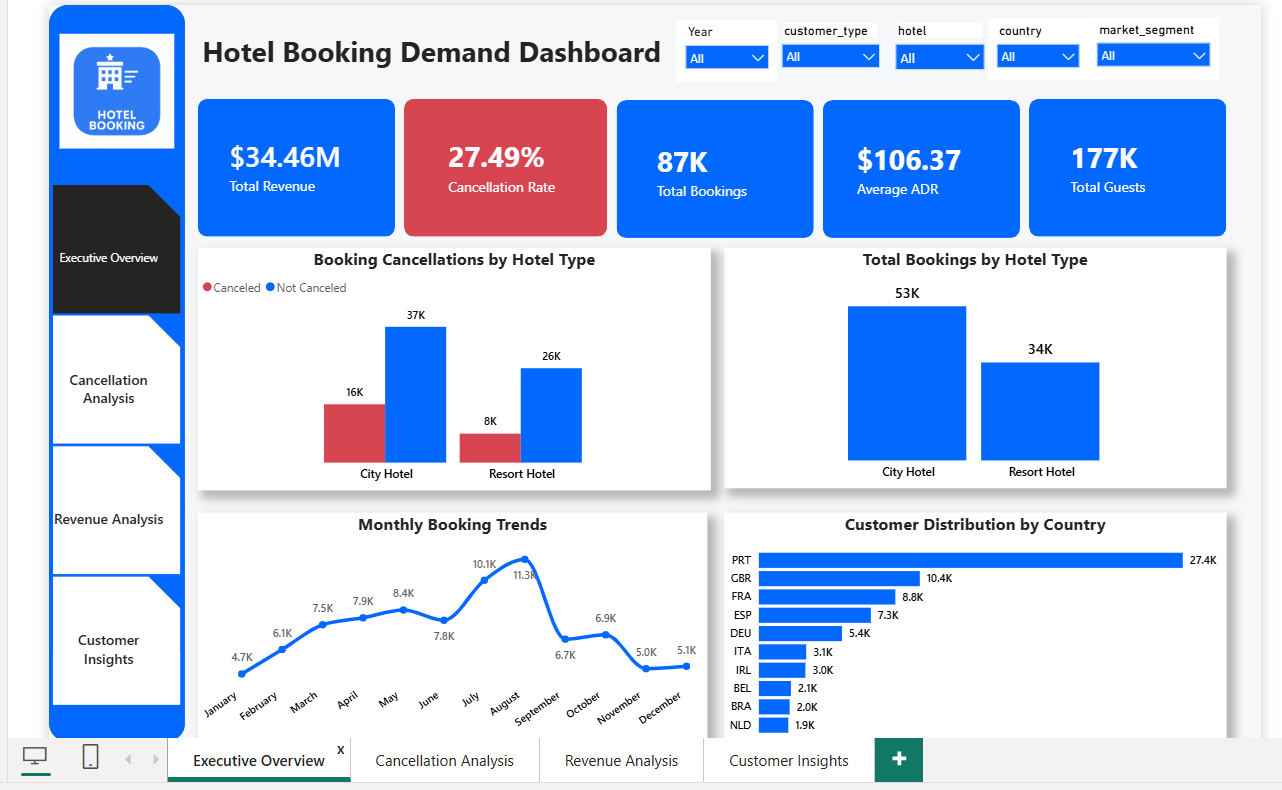

What the dashboard file says about the page in this screenshot:
{"tool":"powerbi","page":{"name":"Executive Overview ","canvas":[1385,853],"ordinal":0},"visuals":[{"type":"columnChart","title":"Total Bookings by Hotel Type","fields":{"Category":["hotel_booking_no_duplicates.hotel"],"Y":["Count(hotel_booking_no_duplicates.booking_id)"]},"box":[771.1,277.8,574.4,275.6],"z":0},{"type":"shape","box":[0,0,155.6,842.2],"z":1000},{"type":"shape","box":[170,106.7,225.6,157.8],"z":2000},{"type":"lineChart","title":"Monthly Booking Trends","fields":{"Y":["CountNonNull(hotel_booking_no_duplicates.booking_id)"],"Category":["hotel_booking_no_duplicates.arrival_date.Variation.Date Hierarchy.Month"]},"box":[170,580,582.2,265.6],"z":3000},{"type":"clusteredColumnChart","title":"Booking Cancellations by Hotel Type","fields":{"Category":["hotel_booking_no_duplicates.hotel"],"Y":["CountNonNull(hotel_booking_no_duplicates.booking_id)"],"Series":["hotel_booking_no_duplicates.cancellation_status"]},"box":[170,277.8,586.7,277.8],"z":4000},{"type":"barChart","title":"Customer Distribution by Country","fields":{"Category":["hotel_booking_no_duplicates.country"],"Y":["CountNonNull(hotel_booking_no_duplicates.booking_id)"]},"box":[771.1,580,574.4,265.6],"z":5000},{"type":"textbox","box":[170,25.6,541.1,72.2],"z":6000},{"type":"shape","box":[405.8,106.7,232.2,157.8],"z":7000},{"type":"shape","box":[648.3,108.9,225.6,157.8],"z":8000},{"type":"shape","box":[884.2,108.9,225.6,157.8],"z":9000},{"type":"shape","box":[1120,106.7,225.6,157.8],"z":10000},{"type":"cardVisual","fields":{"Data":["hotel_booking_no_duplicates.Average ADR"]},"box":[894.4,118.9,196.7,137.8],"z":11000},{"type":"image","box":[0,32.2,155.6,131.1],"z":12000},{"type":"cardVisual","fields":{"Data":["hotel_booking_no_duplicates.Total Bookings"]},"box":[665.6,122.2,186.7,133.3],"z":13000},{"type":"cardVisual","fields":{"Data":["hotel_booking_no_duplicates.Cancellation Rate"]},"box":[426.7,115.6,193.3,137.8],"z":14000},{"type":"cardVisual","fields":{"Data":["hotel_booking_no_duplicates.Total Guests"]},"box":[1138.9,125.6,187.8,118.9],"z":15000},{"type":"slicer","fields":{"Values":["hotel_booking_no_duplicates.hotel"]},"box":[957.8,15.6,122.2,70],"z":16000},{"type":"slicer","fields":{"Values":["hotel_booking_no_duplicates.customer_type"]},"box":[827.8,15.6,132.2,70],"z":17000},{"type":"slicer","fields":{"Values":["hotel_booking_no_duplicates.arrival_date.Variation.Date Hierarchy.Year"]},"box":[717.8,16.7,115.6,70],"z":18000},{"type":"slicer","fields":{"Values":["hotel_booking_no_duplicates.country"]},"box":[1072.2,15.6,114.4,70],"z":19000},{"type":"slicer","fields":{"Values":["hotel_booking_no_duplicates.market_segment"]},"box":[1186.7,14.4,150,71.1],"z":20000},{"type":"cardVisual","fields":{"Data":["hotel_booking_no_duplicates.Total Revenue"]},"box":[176.7,113.3,210,141.1],"z":21000},{"type":"pageNavigator","box":[4.4,205.6,146.7,597.8],"z":22000}]}

Visuals, with their boxes on the page's 1385x853 design canvas (x1, y1, x2, y2). These are canvas units, not pixel positions in the 1282x790 screenshot, which may show the page scaled, cropped or inside an application window:
"Total Bookings by Hotel Type" columnChart: 771/278/1346/553
shape: 0/0/156/842
shape: 170/107/396/264
"Monthly Booking Trends" lineChart: 170/580/752/846
"Booking Cancellations by Hotel Type" clusteredColumnChart: 170/278/757/556
"Customer Distribution by Country" barChart: 771/580/1346/846
textbox: 170/26/711/98
shape: 406/107/638/264
shape: 648/109/874/267
shape: 884/109/1110/267
shape: 1120/107/1346/264
cardVisual - hotel_booking_no_duplicates.Average ADR: 894/119/1091/257
image: 0/32/156/163
cardVisual - hotel_booking_no_duplicates.Total Bookings: 666/122/852/256
cardVisual - hotel_booking_no_duplicates.Cancellation Rate: 427/116/620/253
cardVisual - hotel_booking_no_duplicates.Total Guests: 1139/126/1327/244
slicer - hotel_booking_no_duplicates.hotel: 958/16/1080/86
slicer - hotel_booking_no_duplicates.customer_type: 828/16/960/86
slicer - hotel_booking_no_duplicates.arrival_date.Variation.Date Hierarchy.Year: 718/17/833/87
slicer - hotel_booking_no_duplicates.country: 1072/16/1187/86
slicer - hotel_booking_no_duplicates.market_segment: 1187/14/1337/86
cardVisual - hotel_booking_no_duplicates.Total Revenue: 177/113/387/254
pageNavigator: 4/206/151/803
